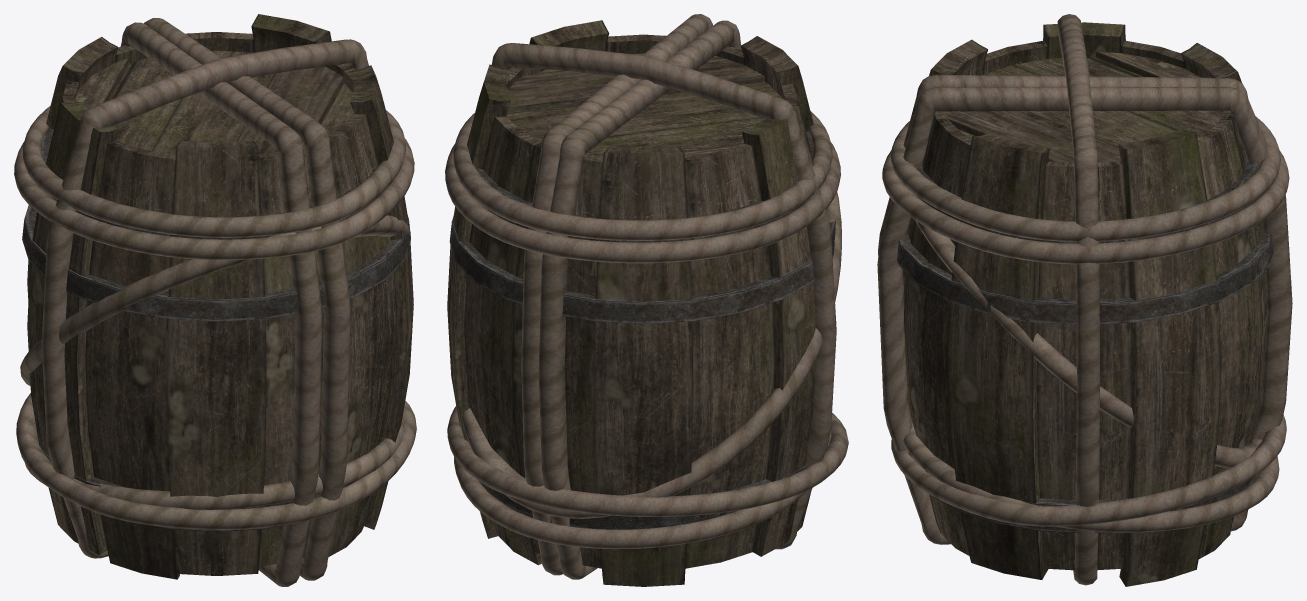
Rendered from Barrel05.fbx.
The picture shows the model from 3 angles, left to right: view 1: azimuth 30°, elevation 25°; view 2: azimuth 150°, elevation 25°; view 3: azimuth 270°, elevation 25°; orthographic projection.
Parts seen in each view (by area): view 1: Barrel05; view 2: Barrel05; view 3: Barrel05.
Boxes of the visible parts, left/top/right/bottom form: Barrel05: left=14, top=14, right=416, bottom=586; Barrel05: left=445, top=14, right=848, bottom=586; Barrel05: left=877, top=14, right=1292, bottom=586.
Bounding box in the file's own units: 84.47 × 106 × 84.6.
